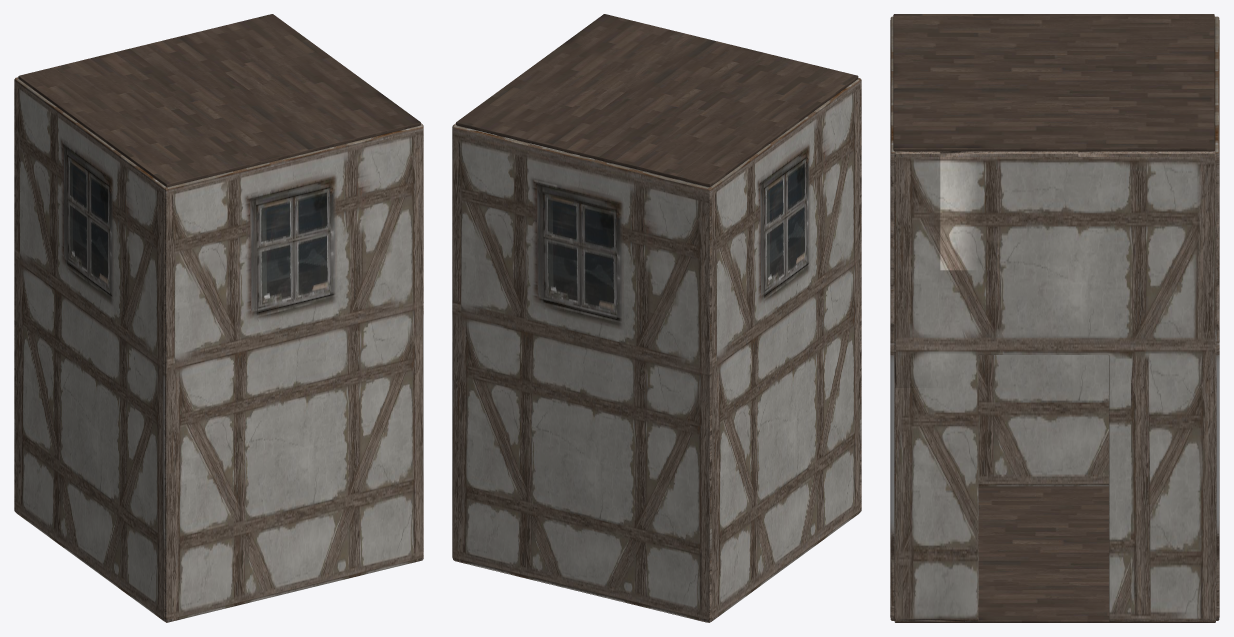
The model's file is Room_ori.fbx.
3 views of the same model, side by side, from view 1: azimuth 30°, elevation 25°; view 2: azimuth 150°, elevation 25°; view 3: azimuth 270°, elevation 25° (orthographic). The views are drawn at different scales.
Parts seen in each view (by area): view 1: polySurface22; view 2: polySurface22; view 3: polySurface22, polySurface1.
Boxes of the visible parts, <box> form: polySurface22: <box>14,14,423,622</box>; polySurface22: <box>452,14,861,622</box>; polySurface22: <box>890,14,1219,621</box>; polySurface1: <box>894,486,1215,622</box>.
Size of the model in its own units: 2.53 by 4.08 by 2.56.
3 materials, 3 textured.
